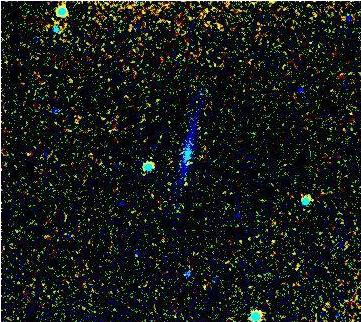star: (168, 169, 198, 199)
